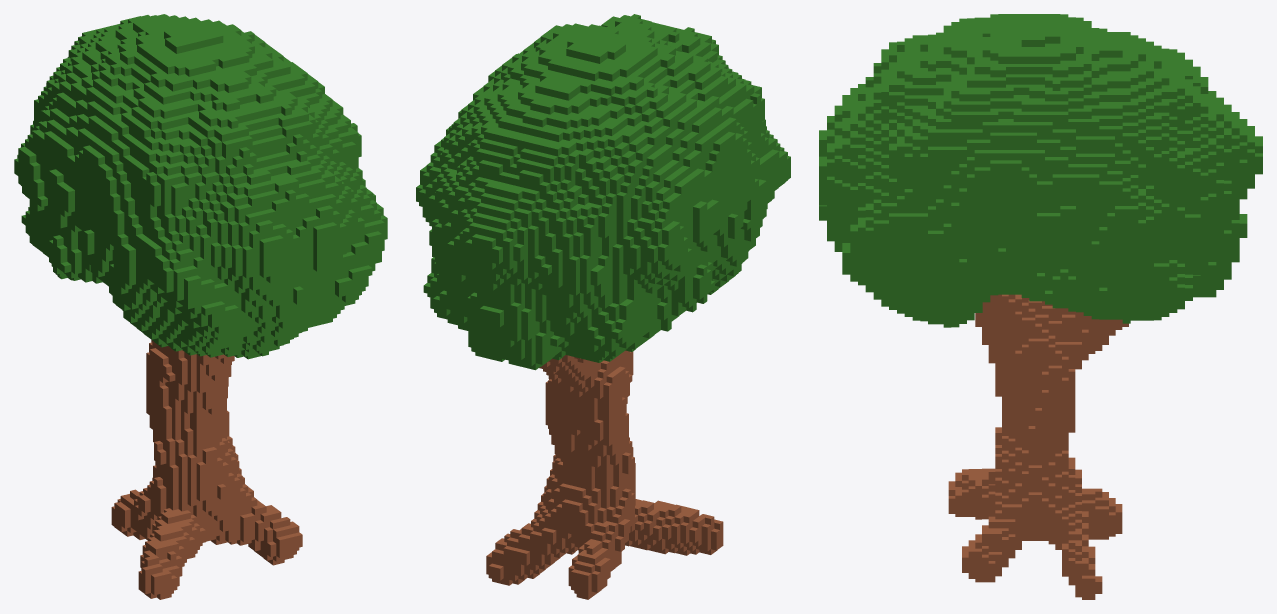
File: BigTree3.fbx
3 renders of one model, left to right at view 1: azimuth 30°, elevation 25°; view 2: azimuth 150°, elevation 25°; view 3: azimuth 270°, elevation 25°, orthographic.
Parts seen in each view (by area): view 1: trunk.001; view 2: trunk.001; view 3: trunk.001.
Boxes of the visible parts, x1,y1,x2,y2 form: trunk.001: (14, 14, 387, 599); trunk.001: (416, 14, 790, 599); trunk.001: (819, 14, 1262, 599).
Bounding box in the file's own units: 1.89 × 2.91 × 3.88.
